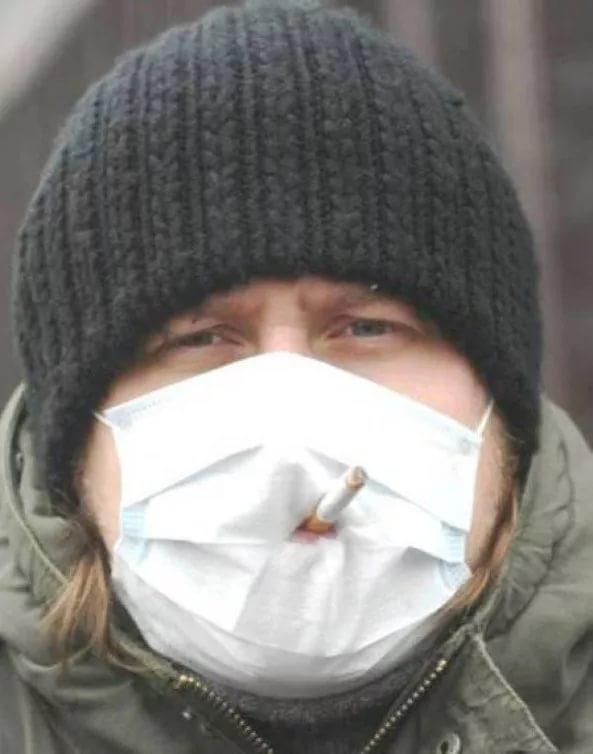poor: (86, 258, 484, 694)
